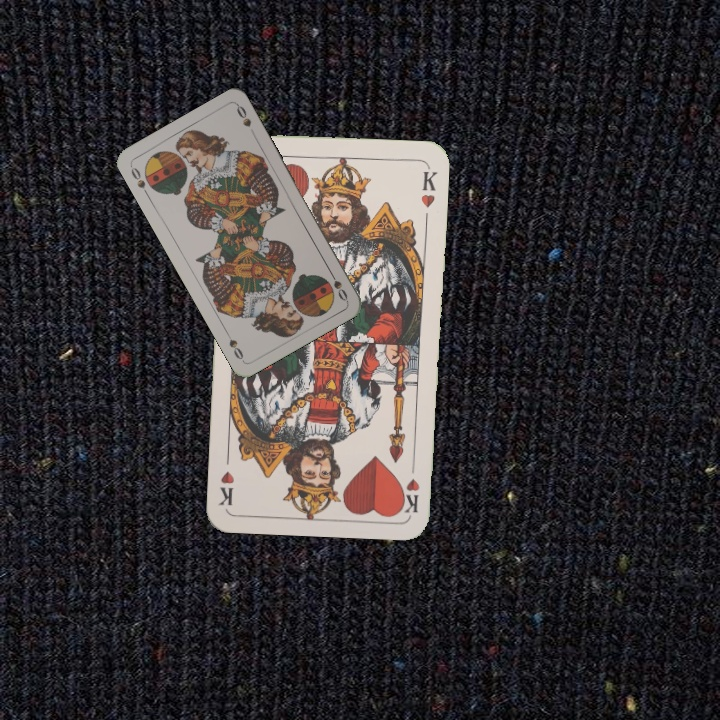HK: (399, 455, 422, 515)
SO: (126, 162, 152, 199), (325, 266, 350, 304)
